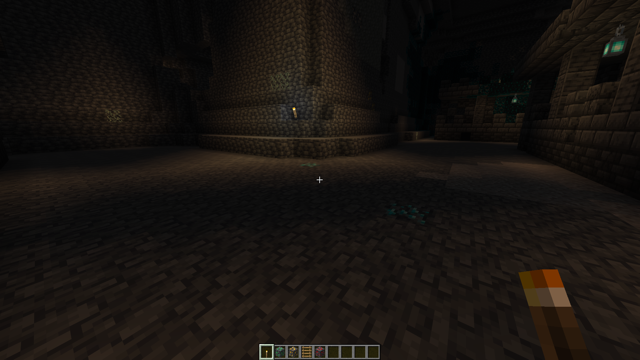diamond: (383, 198, 431, 228), (301, 159, 318, 169)
